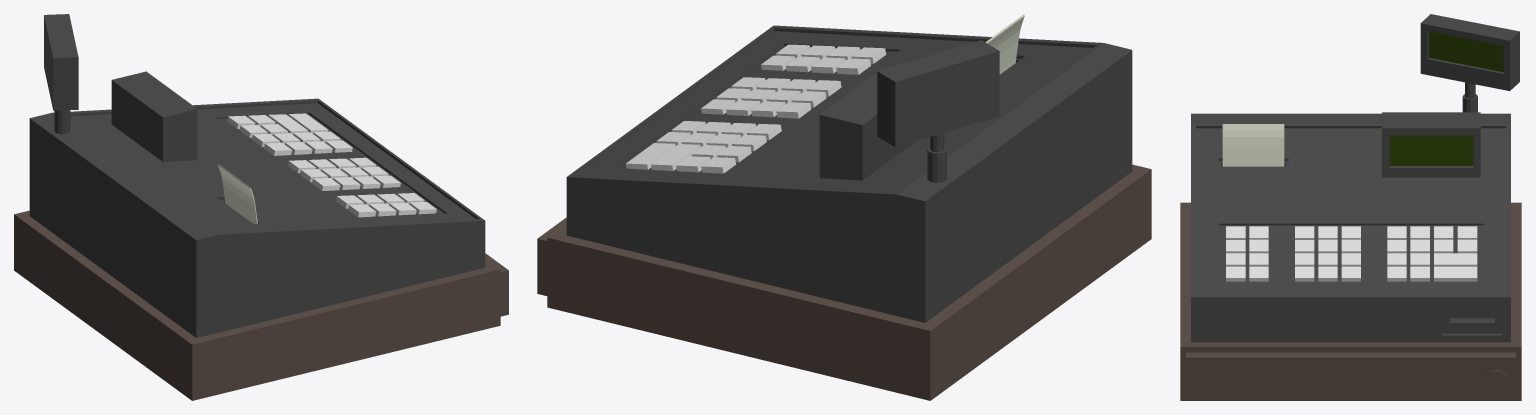
File: resgister.fbx
3 renders of one model, left to right at view 1: azimuth 30°, elevation 25°; view 2: azimuth 150°, elevation 25°; view 3: azimuth 270°, elevation 25°, orthographic. The views are drawn at different scales.
Parts seen in each view (by area): view 1: Cube.002, Cube.001, Cube.005, Cube.004, Recipet, Cube.003; view 2: Cube.002, Cube.001, Cube.004, Cube.005, Recipet, Cylinder, Cube.003, Cube.027, Cube.026; view 3: Cube.002, Cube.003, Cube.001, Cube.004, Cube.005, Recipet, Cube.041, Cube.040, Cube.026, Cube.027, Cylinder, Circle (+8 smaller).
Part boxes in pixels (x1,y1,x2,y2): Cube.002: (29,98,485,337); Cube.001: (14,210,500,400); Cube.005: (111,71,197,161); Cube.004: (44,14,78,110); Recipet: (218,164,257,223); Cube.003: (485,253,508,316); Cube.002: (566,25,1132,322); Cube.001: (547,164,1151,400); Cube.004: (877,40,999,147); Cube.005: (819,68,915,180); Recipet: (985,14,1024,74); Cylinder: (927,133,946,182); Cube.003: (537,217,566,295); Cube.027: (651,144,700,170); Cube.026: (626,143,675,169); Cube.002: (1191,113,1510,342); Cube.003: (1186,352,1515,400); Cube.001: (1180,202,1521,400); Cube.004: (1420,14,1519,90); Cube.005: (1382,112,1480,177); Recipet: (1222,124,1284,166); Cube.041: (1389,135,1473,165); Cube.040: (1429,31,1503,72); Cube.026: (1434,266,1477,281); Cube.027: (1434,253,1477,266); Cylinder: (1462,82,1477,112); Circle: (1484,370,1507,391).
Size of the model in its own units: 0.5343 by 0.3972 by 0.5.
